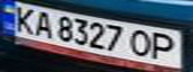2: (87, 19, 106, 51)
3: (69, 16, 90, 47)
7: (103, 22, 130, 54)
8: (51, 14, 75, 43)
A: (30, 9, 57, 38)
K: (9, 4, 42, 34)
O: (124, 27, 157, 58)
P: (145, 30, 184, 62)
